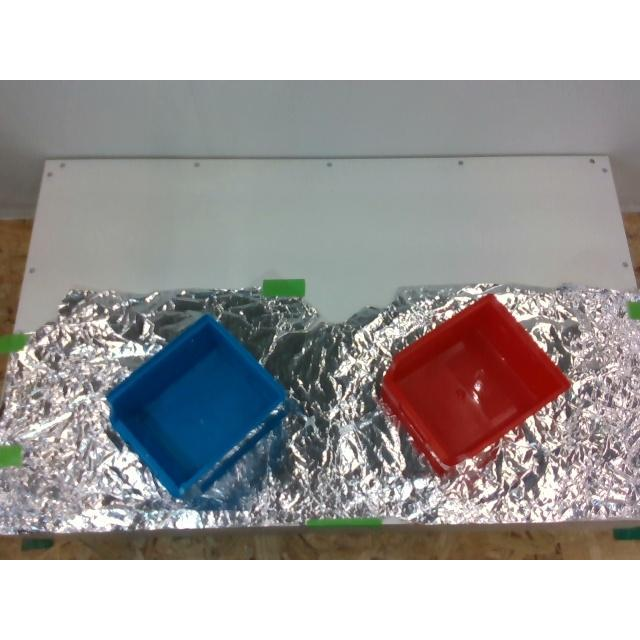container_box_blue: (108, 314, 284, 500)
container_box_red: (380, 294, 570, 474)
